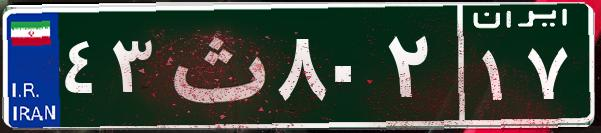0: (330, 28, 385, 110)
1: (475, 38, 525, 113)
2: (385, 28, 445, 110)
3: (110, 28, 158, 105)
4: (57, 26, 110, 107)
7: (525, 38, 570, 115)
8: (273, 28, 330, 110)
ث: (158, 15, 273, 115)
